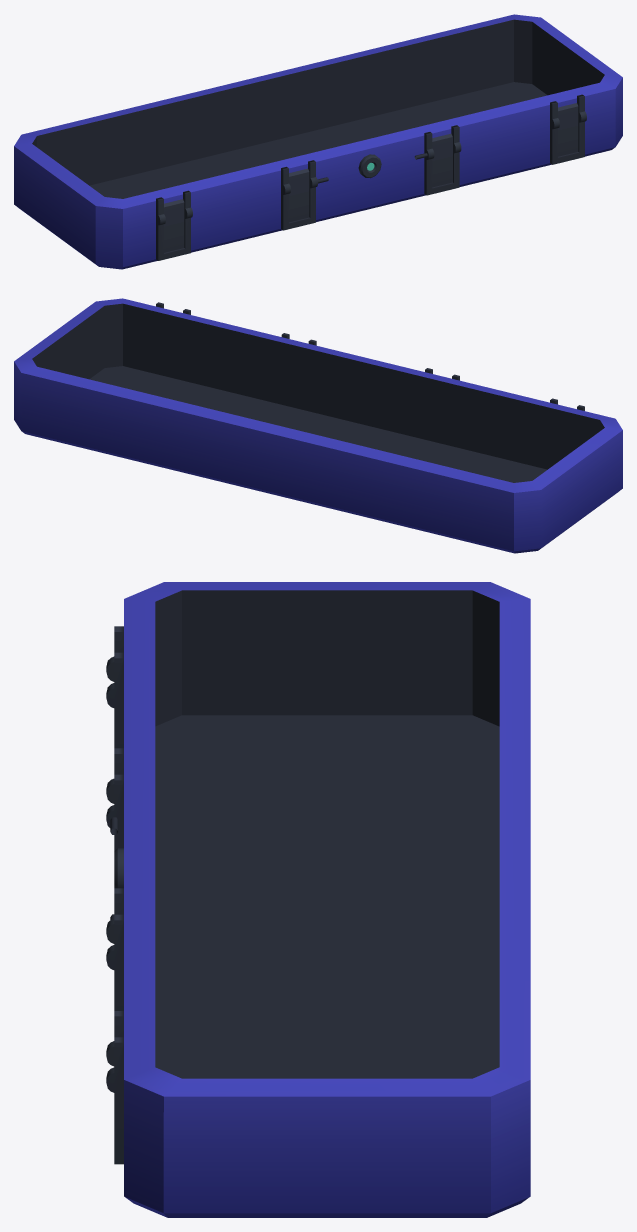
The model's file is Container_08.fbx.
3 renders of one model, top to bottom at view 1: azimuth 30°, elevation 25°; view 2: azimuth 150°, elevation 25°; view 3: azimuth 270°, elevation 25°, orthographic. The views are drawn at different scales.
Parts seen in each view (by area): view 1: Container_08; view 2: Container_08; view 3: Container_08.
Part boxes in pixels (box(x1,y1,x2,y2)): Container_08: box(14, 14, 622, 269); Container_08: box(14, 298, 622, 553); Container_08: box(106, 582, 530, 1217).
Size of the model in its own units: 131 by 15.5 by 45.78.
